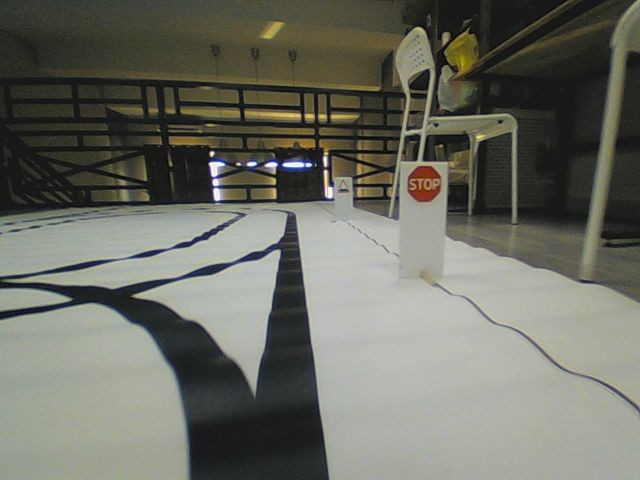Stop: (406, 164, 442, 203)
